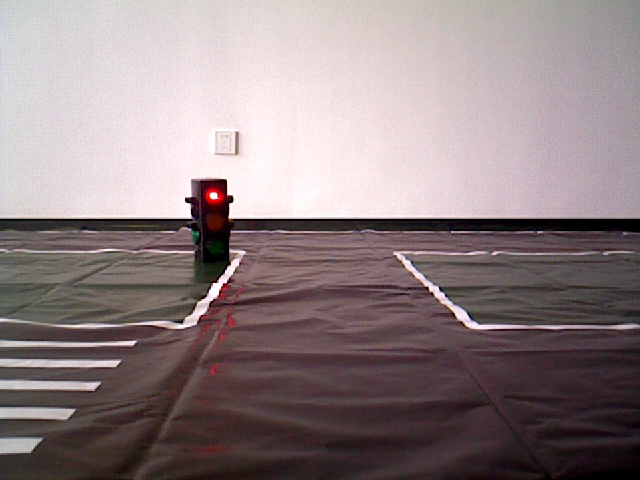red: (192, 181, 227, 267)
